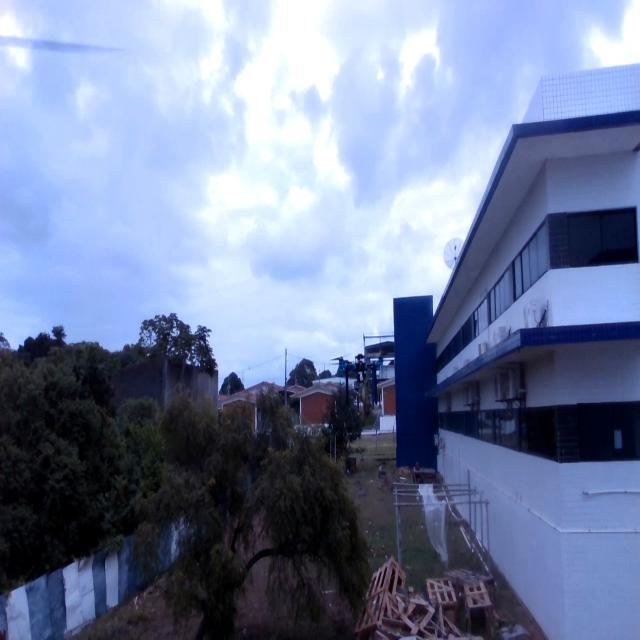-uav-: (321, 336, 405, 431)
